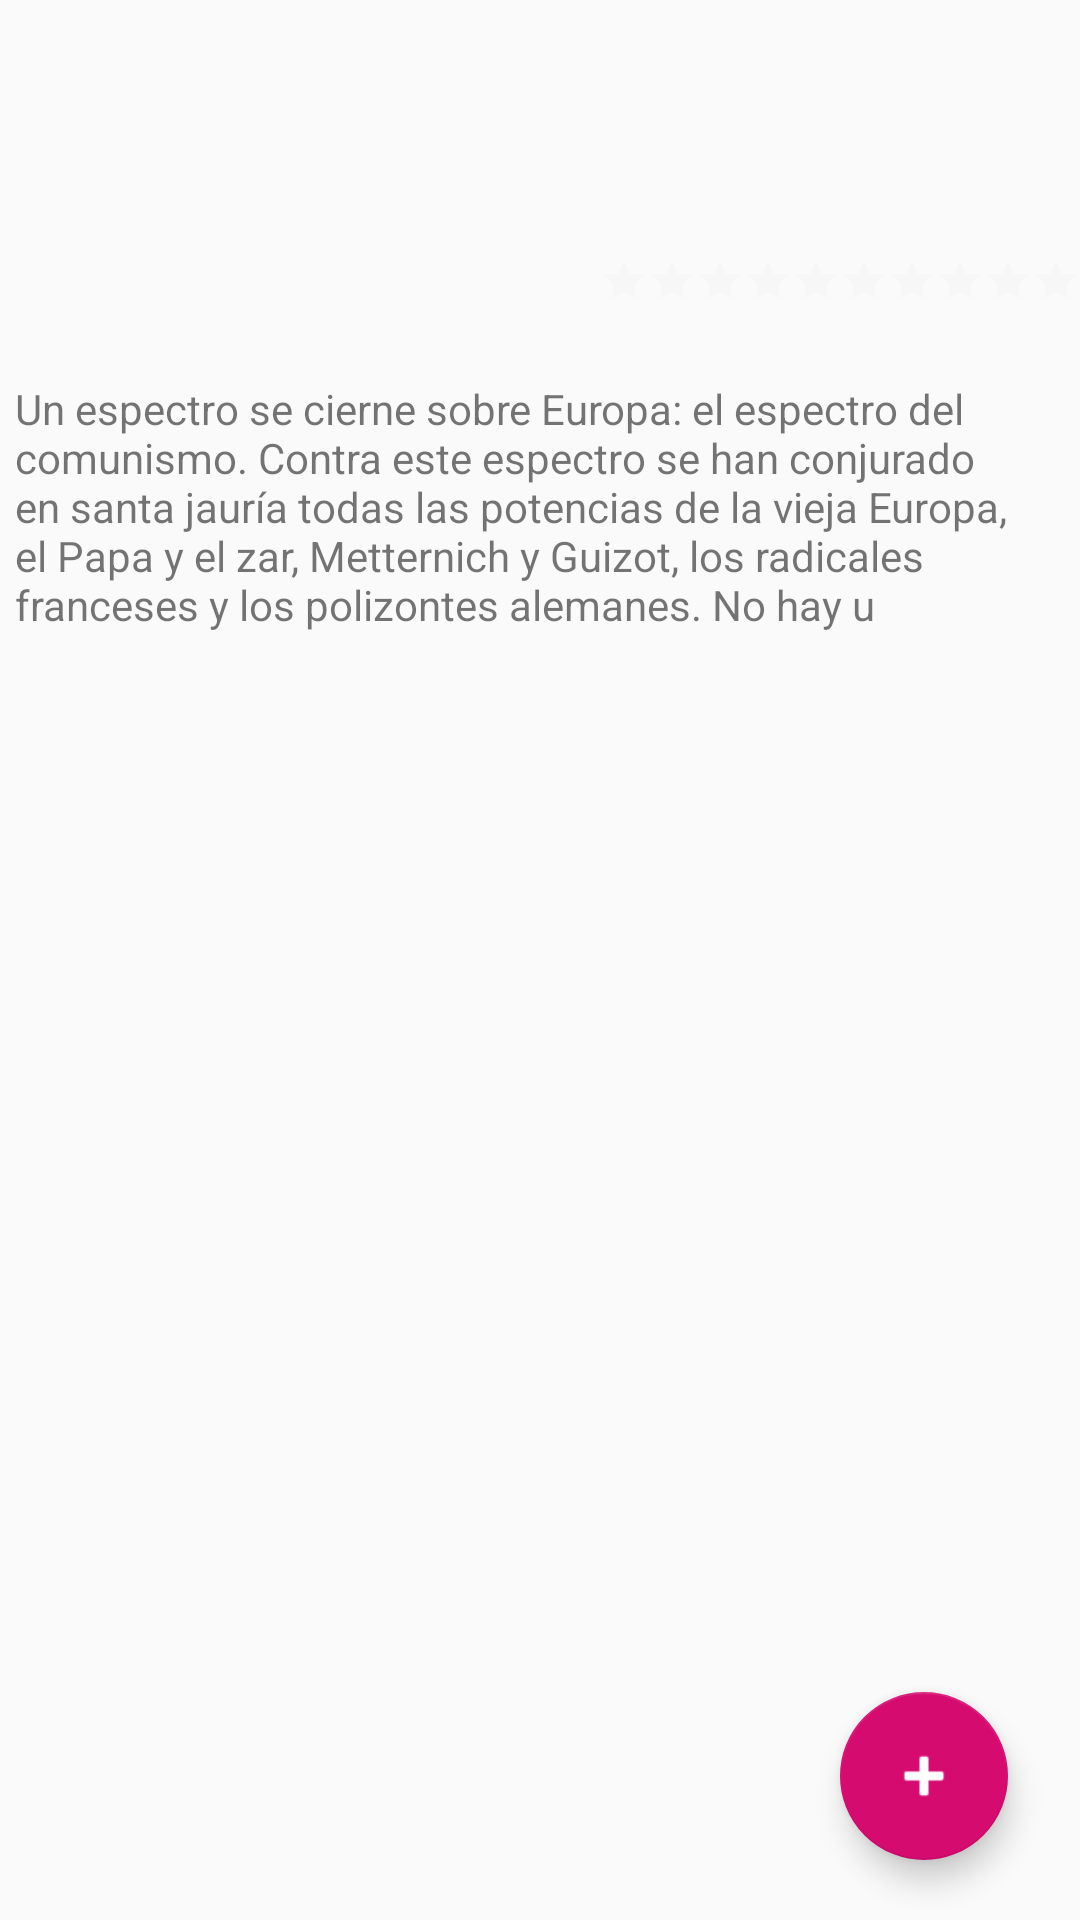

Point at icon controls on the screen. Image size 1080×1920, points as (x,y).
add: (924,1776)
